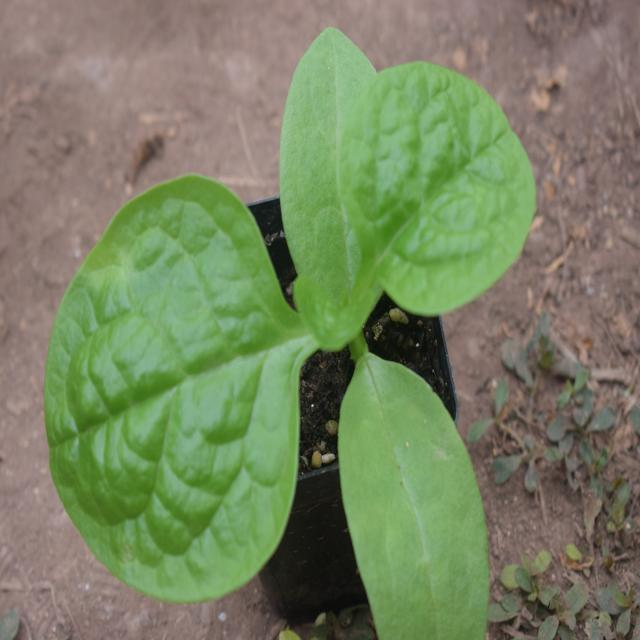Ceylon spinach: (46, 60, 534, 603)
